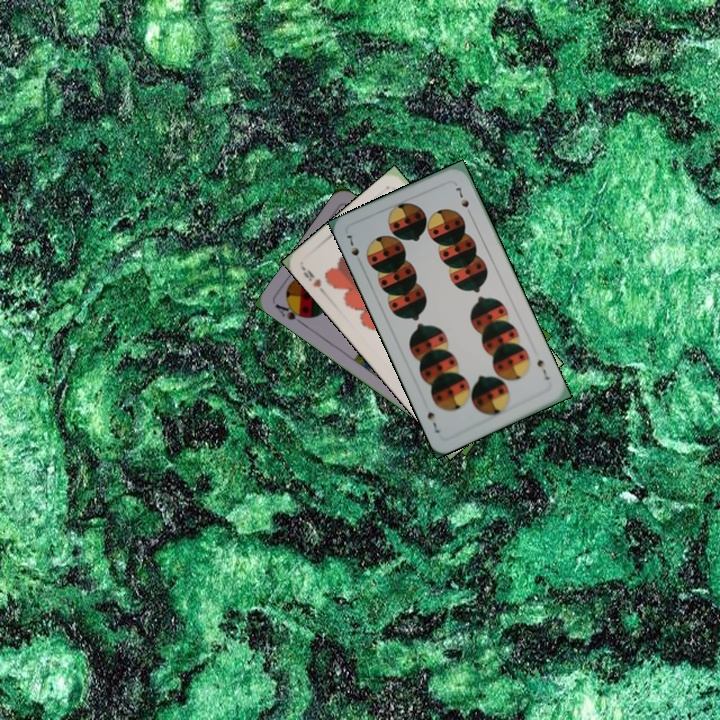H9: (298, 263, 329, 297)
S7: (342, 231, 362, 259), (533, 355, 552, 383)
SA: (271, 299, 311, 328)
